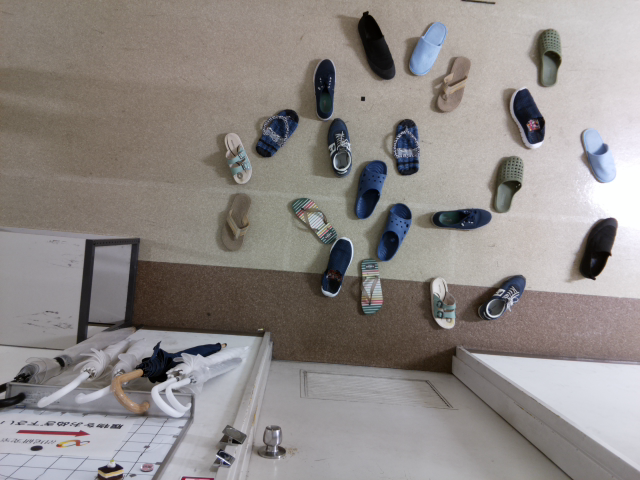Copy of Copy of Copy of Copy of Copy of Copy of Copy of sandal: (255, 108, 298, 158)
Copy of Copy of Copy of Copy of Copy of Copy of Copy of shoes: (357, 11, 396, 79)
Copy of Copy of Copy of Copy of Copy of Copy of sandal: (393, 118, 420, 175)
Copy of Copy of Copy of Copy of Copy of Copy of shoes: (320, 237, 353, 297)
Copy of Copy of Copy of Copy of Copy of sandal: (435, 57, 470, 112)
Copy of Copy of Copy of Copy of Copy of shoes: (431, 207, 492, 231)
Copy of Copy of Copy of Copy of Copy of slipper: (408, 21, 447, 76)
Copy of Copy of Copy of Copy of sandal: (429, 275, 456, 328)
Copy of Copy of Copy of Copy of shoes: (477, 274, 526, 320)
Copy of Copy of Copy of Copy of slipper: (580, 126, 617, 183)
Copy of Copy of Copy of sandal: (361, 258, 383, 314)
Copy of Copy of Copy of shoes: (579, 217, 618, 280)
Copy of Copy of Copy of slipper: (539, 28, 563, 87)
Copy of Copy of sandal: (291, 197, 337, 244)
Copy of Copy of shoes: (508, 86, 545, 148)
Copy of Copy of slipper: (493, 155, 524, 213)
Copy of sandal: (221, 192, 252, 252)
Copy of shoes: (327, 117, 352, 175)
Copy of slipper: (376, 203, 411, 261)
sandal: (224, 132, 252, 184)
shoes: (312, 57, 336, 120)
slipper: (354, 159, 386, 219)
